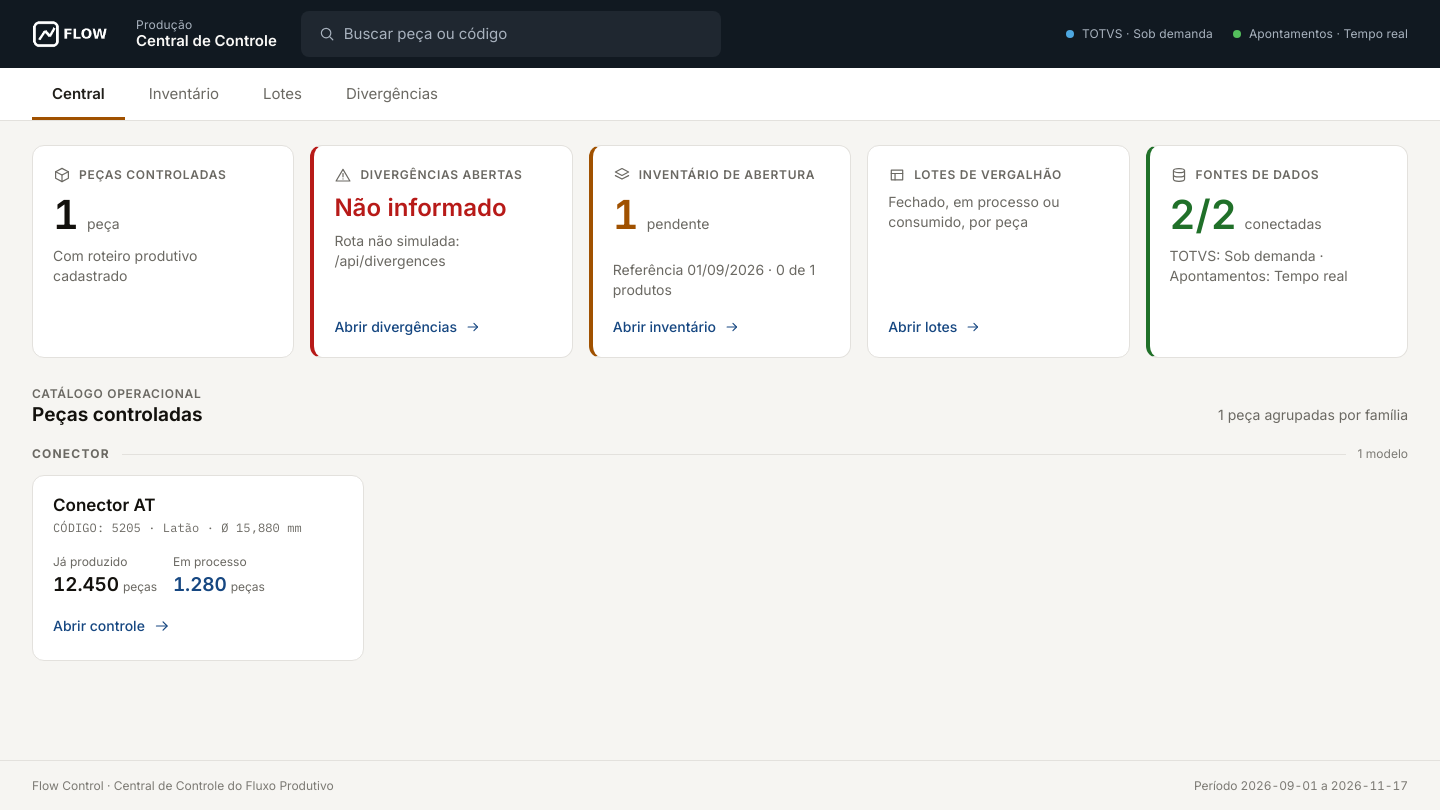
Central de Controle › abre o controle da peça preservando o contexto na URL
What coordinates should you click on to do the following:
click the button with aria-label "Abrir controle de Conector AT"
I would click on:
 (198, 568)
Its box is [32,475,364,661].
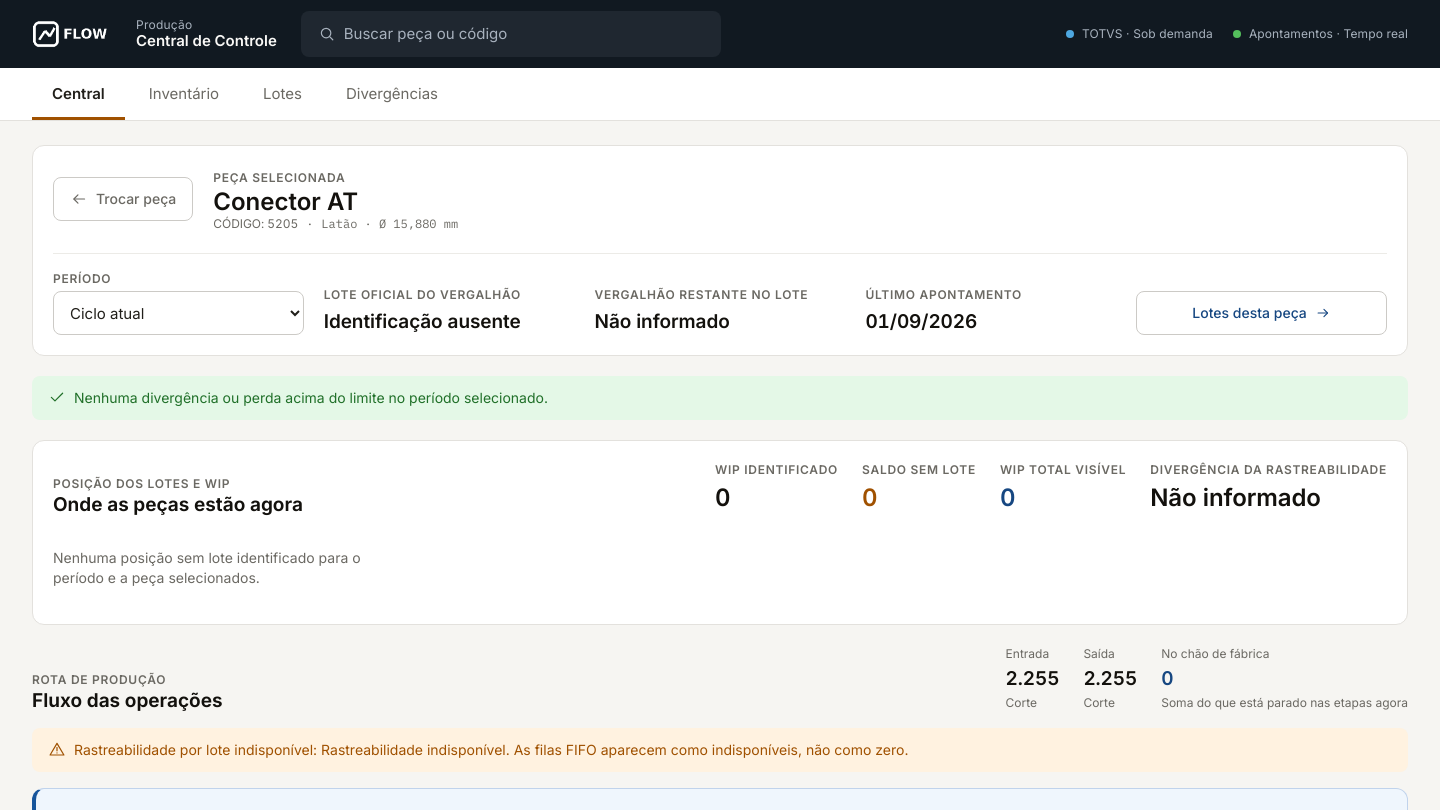
Expected: the heading "Conector AT" is shown, [213,187,358,216]
Now the text "Rastreabilidade por lote indisponível" is shown, box [74,740,321,758]
